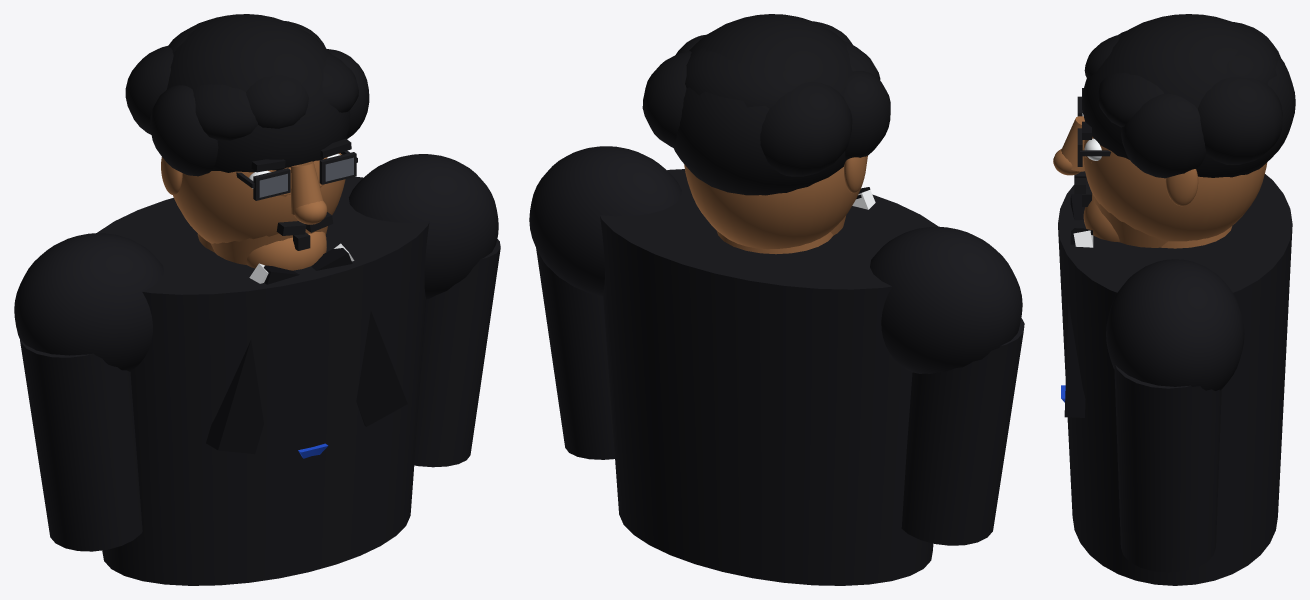
Rendered from lahiru-avatar.glb.
The picture shows the model from 3 angles, left to right: view 1: azimuth 30°, elevation 25°; view 2: azimuth 150°, elevation 25°; view 3: azimuth 270°, elevation 25°; orthographic projection. The views are drawn at different scales.
Visible parts, largest first — view 1: TorsoSuit, Spine, WavyHair, Head, Glasses; view 2: TorsoSuit, Spine, WavyHair, Head, Neck; view 3: TorsoSuit, Spine, WavyHair, Head, Glasses, Neck.
Boxes of the visible parts, left/top/right/bottom form: TorsoSuit: left=97, top=177, right=429, bottom=585; Spine: left=14, top=154, right=500, bottom=551; WavyHair: left=125, top=14, right=369, bottom=176; Head: left=161, top=138, right=351, bottom=270; Glasses: left=236, top=150, right=357, bottom=200; TorsoSuit: left=600, top=169, right=938, bottom=585; Spine: left=529, top=146, right=1024, bottom=545; WavyHair: left=642, top=14, right=890, bottom=195; Head: left=684, top=155, right=867, bottom=249; Neck: left=717, top=231, right=833, bottom=254; TorsoSuit: left=1058, top=174, right=1292, bottom=585; Spine: left=1061, top=194, right=1244, bottom=572; WavyHair: left=1082, top=14, right=1295, bottom=178; Head: left=1053, top=88, right=1267, bottom=247; Glasses: left=1077, top=96, right=1110, bottom=166; Neck: left=1160, top=226, right=1232, bottom=248.
Bounding box in the file's own units: 1.56 × 1.6 × 0.7145.
